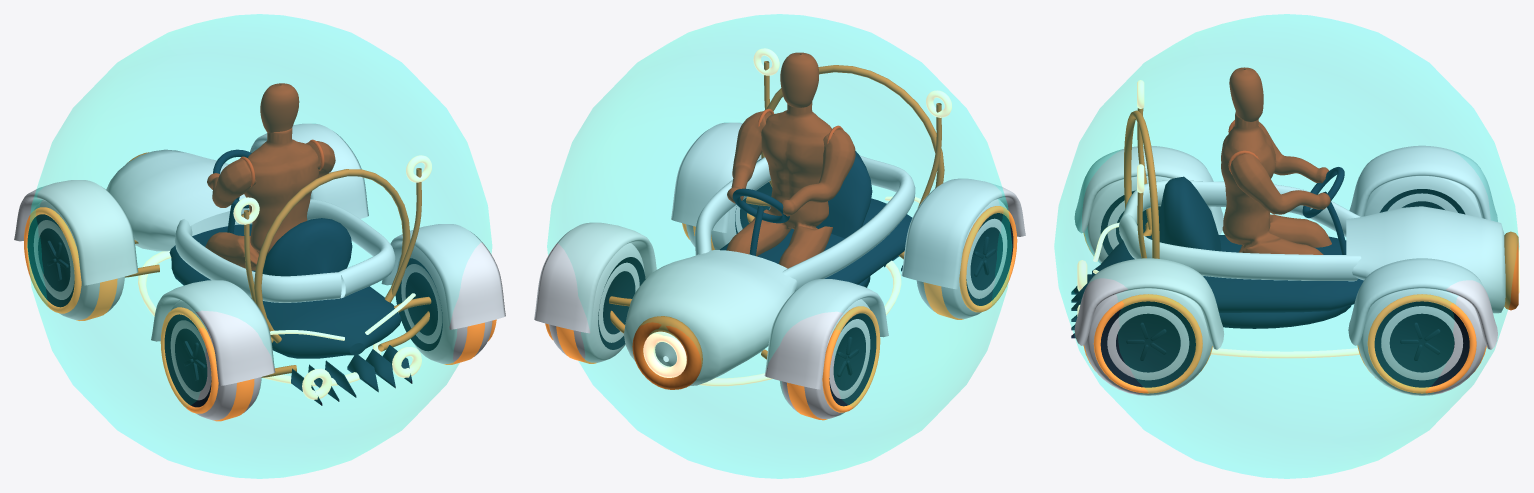
The model's file is aether.glb.
3 views of the same model, side by side, from view 1: azimuth 30°, elevation 25°; view 2: azimuth 150°, elevation 25°; view 3: azimuth 270°, elevation 25° (orthographic).
Visible parts, largest first — view 1: aether:aegis-shield, aether:coachwork-batch.001, aether:coachwork-batch, aether:torso, aether:coachwork-batch.002, aether:rounded-wheel-shell.003, aether:recessed-colored-hub, aether:recessed-colored-hub.002, aether:rounded-wheel-shell, aether:rounded-wheel-shell.002, aether:recessed-colored-hub.003, aether:head-mesh (+9 smaller); view 2: aether:aegis-shield, aether:coachwork-batch.001, aether:torso, aether:coachwork-batch.002, aether:coachwork-batch, aether:rounded-wheel-shell.001, aether:arm-l-mesh, aether:recessed-colored-hub, aether:recessed-colored-hub.002, aether:rounded-wheel-shell.002, aether:rounded-wheel-shell, aether:head-mesh (+11 smaller); view 3: aether:aegis-shield, aether:coachwork-batch.001, aether:coachwork-batch, aether:torso, aether:recessed-colored-hub.001, aether:recessed-colored-hub.003, aether:rounded-wheel-shell.003, aether:rounded-wheel-shell.001, aether:coachwork-batch.002, aether:rounded-wheel-shell, aether:arm-r-mesh, aether:wheel-light-ring.001 (+8 smaller).
Part boxes in pixels (left/top/right/bottom): aether:aegis-shield: left=27, top=14, right=491, bottom=478; aether:coachwork-batch.001: left=14, top=123, right=505, bottom=385; aether:coachwork-batch: left=169, top=197, right=412, bottom=405; aether:torso: left=205, top=128, right=318, bottom=270; aether:coachwork-batch.002: left=125, top=152, right=431, bottom=377; aether:rounded-wheel-shell.003: left=396, top=245, right=492, bottom=363; aether:recessed-colored-hub: left=27, top=214, right=74, bottom=307; aether:recessed-colored-hub.002: left=164, top=314, right=211, bottom=407; aether:rounded-wheel-shell: left=33, top=200, right=124, bottom=319; aether:rounded-wheel-shell.002: left=170, top=300, right=261, bottom=420; aether:recessed-colored-hub.003: left=395, top=258, right=442, bottom=351; aether:head-mesh: left=260, top=83, right=299, bottom=133; aether:aegis-shield: left=547, top=14, right=1011, bottom=478; aether:coachwork-batch.001: left=534, top=122, right=1025, bottom=389; aether:torso: left=726, top=101, right=832, bottom=268; aether:coachwork-batch.002: left=609, top=61, right=944, bottom=389; aether:coachwork-batch: left=720, top=151, right=912, bottom=287; aether:rounded-wheel-shell.001: left=549, top=242, right=644, bottom=362; aether:arm-l-mesh: left=781, top=129, right=855, bottom=216; aether:recessed-colored-hub: left=829, top=313, right=876, bottom=406; aether:recessed-colored-hub.002: left=966, top=213, right=1013, bottom=305; aether:rounded-wheel-shell.002: left=916, top=198, right=1007, bottom=318; aether:rounded-wheel-shell: left=780, top=299, right=870, bottom=418; aether:head-mesh: left=780, top=52, right=819, bottom=107; aether:aegis-shield: left=1054, top=14, right=1519, bottom=478; aether:coachwork-batch.001: left=1074, top=145, right=1505, bottom=349; aether:coachwork-batch: left=1071, top=176, right=1363, bottom=338; aether:torso: left=1221, top=112, right=1331, bottom=254; aether:recessed-colored-hub.001: left=1374, top=301, right=1469, bottom=387; aether:recessed-colored-hub.003: left=1100, top=301, right=1195, bottom=387; aether:rounded-wheel-shell.003: left=1084, top=288, right=1212, bottom=395; aether:rounded-wheel-shell.001: left=1358, top=288, right=1485, bottom=395; aether:coachwork-batch.002: left=1124, top=108, right=1518, bottom=310; aether:rounded-wheel-shell: left=1364, top=176, right=1481, bottom=217; aether:arm-r-mesh: left=1230, top=153, right=1330, bottom=214; aether:wheel-light-ring.001: left=1367, top=294, right=1476, bottom=393.
Size of the model in its own units: 4.3 by 4.3 by 4.3.
